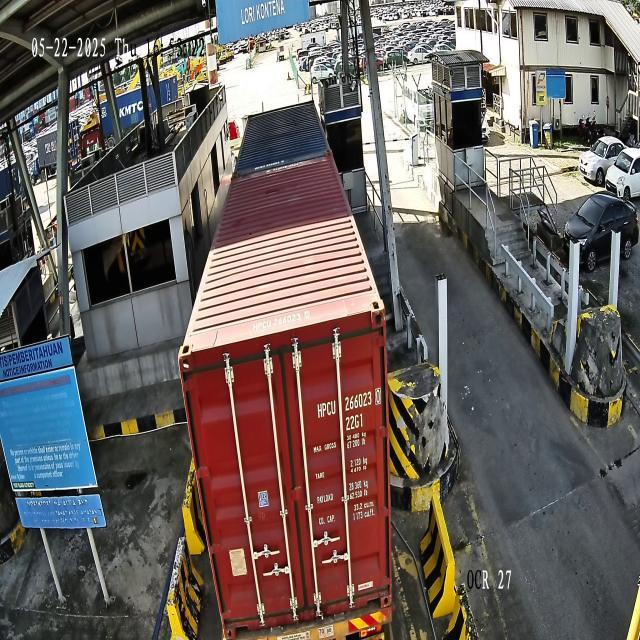ISO: (346, 412, 364, 432)
container_number: (317, 386, 382, 418)
